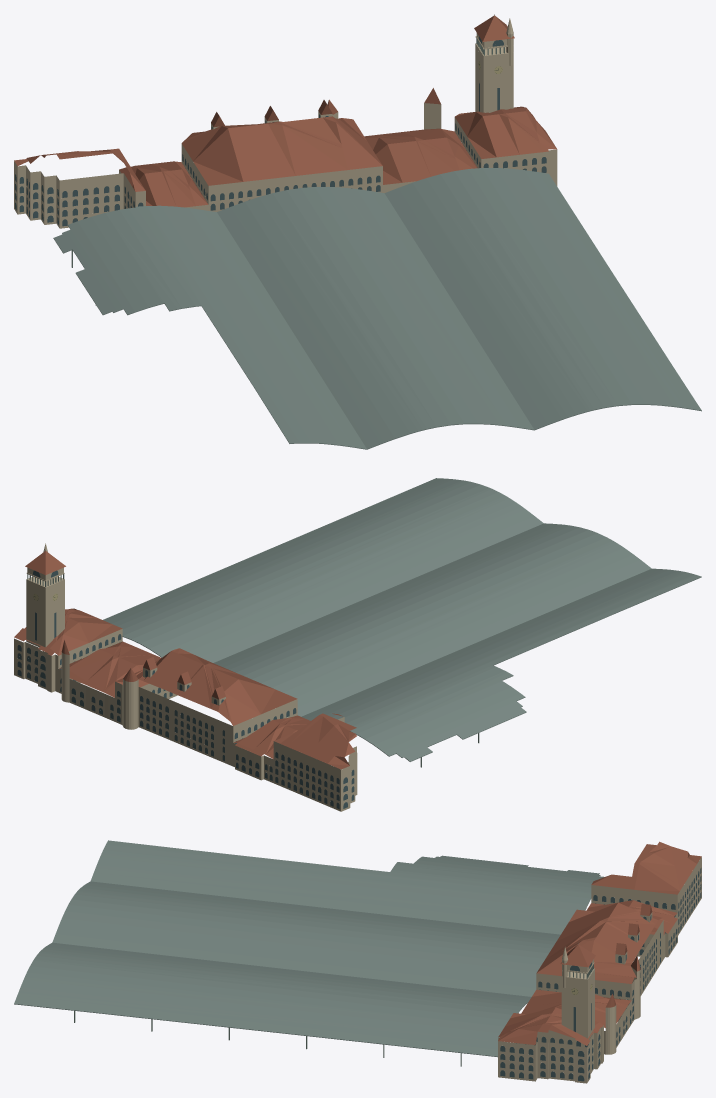
File: st-louis-union-station-near.glb
3 views of the same model, one above another, from view 1: azimuth 30°, elevation 25°; view 2: azimuth 150°, elevation 25°; view 3: azimuth 270°, elevation 25° (orthographic). The views are drawn at different scales.
Parts seen in each view (by area): view 1: st-louis-union-station-0-metal, st-louis-union-station-0-red, st-louis-union-station-0-stone, st-louis-union-station-0-glass; view 2: st-louis-union-station-0-metal, st-louis-union-station-0-stone, st-louis-union-station-0-red, st-louis-union-station-0-glass; view 3: st-louis-union-station-0-metal, st-louis-union-station-0-red, st-louis-union-station-0-stone, st-louis-union-station-0-glass.
Part boxes in pixels (x1=…): st-louis-union-station-0-metal: x1=53, y1=14, x2=701, y2=449; st-louis-union-station-0-red: x1=14, y1=15, x2=556, y2=207; st-louis-union-station-0-stone: x1=14, y1=18, x2=557, y2=228; st-louis-union-station-0-glass: x1=15, y1=36, x2=546, y2=226; st-louis-union-station-0-metal: x1=45, y1=478, x2=701, y2=761; st-louis-union-station-0-stone: x1=14, y1=543, x2=357, y2=811; st-louis-union-station-0-red: x1=14, y1=550, x2=356, y2=769; st-louis-union-station-0-glass: x1=17, y1=570, x2=354, y2=809; st-louis-union-station-0-metal: x1=14, y1=840, x2=604, y2=1057; st-louis-union-station-0-red: x1=498, y1=841, x2=701, y2=1045; st-louis-union-station-0-stone: x1=498, y1=857, x2=701, y2=1083; st-louis-union-station-0-glass: x1=500, y1=868, x2=701, y2=1081.
Size of the model in its own units: 253 by 70.1 by 344.
